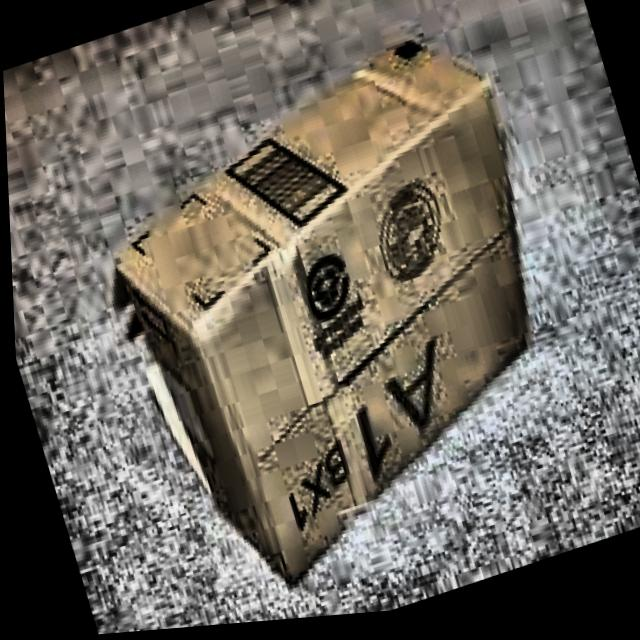Cardbox: (28, 0, 618, 638)
